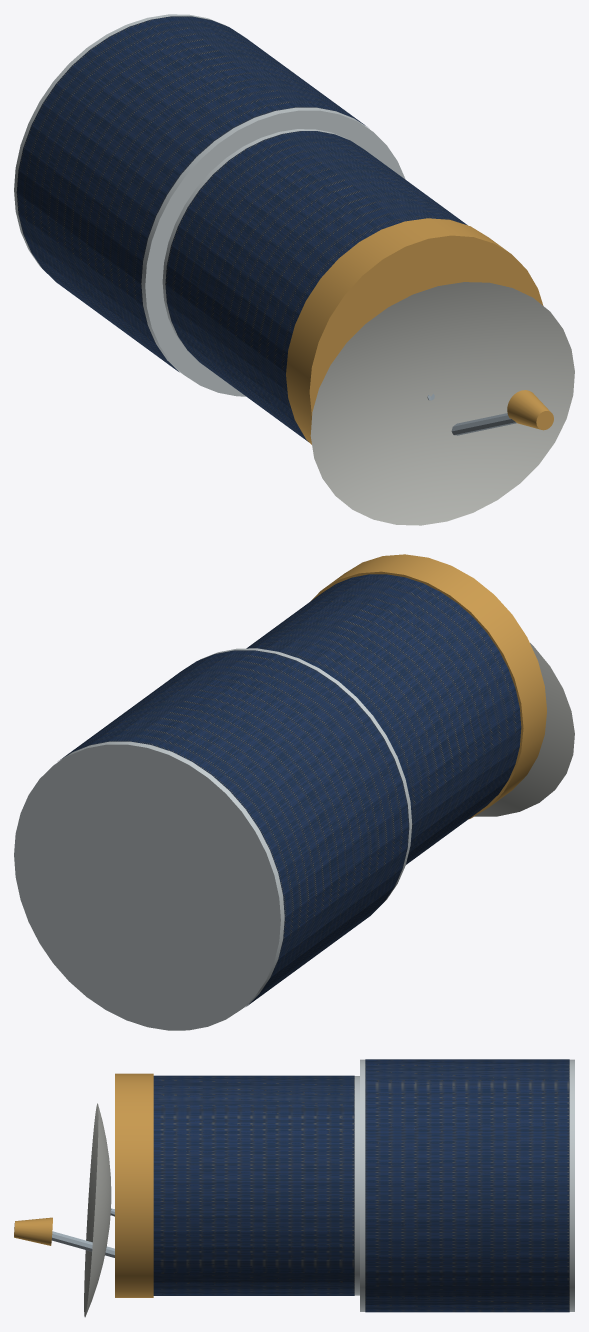
3 renders of one model, top to bottom at view 1: azimuth 30°, elevation 25°; view 2: azimuth 150°, elevation 25°; view 3: azimuth 270°, elevation 25°, orthographic. The views are drawn at different scales.
Parts seen in each view (by area): view 1: Body-mounted solar cells (×2), Deck-mounted reflector, Despun equipment deck, Solar drum core (×2), Feed horn, Offset feed boom; view 2: Body-mounted solar cells (×2), Solar drum core, Despun equipment deck, Deck-mounted reflector; view 3: Body-mounted solar cells (×2), Despun equipment deck, Solar drum core (×2), Deck-mounted reflector, Feed horn, Offset feed boom.
Part boxes in pixels (left/top/right/bottom): Body-mounted solar cells (×2): left=16, top=16, right=467, bottom=441; Deck-mounted reflector: left=310, top=282, right=574, bottom=525; Despun equipment deck: left=286, top=218, right=543, bottom=444; Solar drum core (×2): left=14, top=14, right=405, bottom=396; Feed horn: left=507, top=390, right=553, bottom=430; Offset feed boom: left=451, top=413, right=516, bottom=435; Body-mounted solar cells (×2): left=59, top=574, right=521, bottom=1006; Solar drum core: left=14, top=648, right=412, bottom=1030; Despun equipment deck: left=310, top=554, right=546, bottom=818; Deck-mounted reflector: left=474, top=643, right=574, bottom=816; Body-mounted solar cells (×2): left=153, top=1059, right=569, bottom=1312; Despun equipment deck: left=115, top=1073, right=153, bottom=1297; Solar drum core (×2): left=354, top=1059, right=574, bottom=1311; Deck-mounted reflector: left=84, top=1103, right=111, bottom=1317; Feed horn: left=14, top=1217, right=52, bottom=1245; Offset feed boom: left=51, top=1231, right=114, bottom=1257.
Size of the model in its own units: 3.61 by 3.67 by 8.
Materials: 5 (1 with a texture image).
